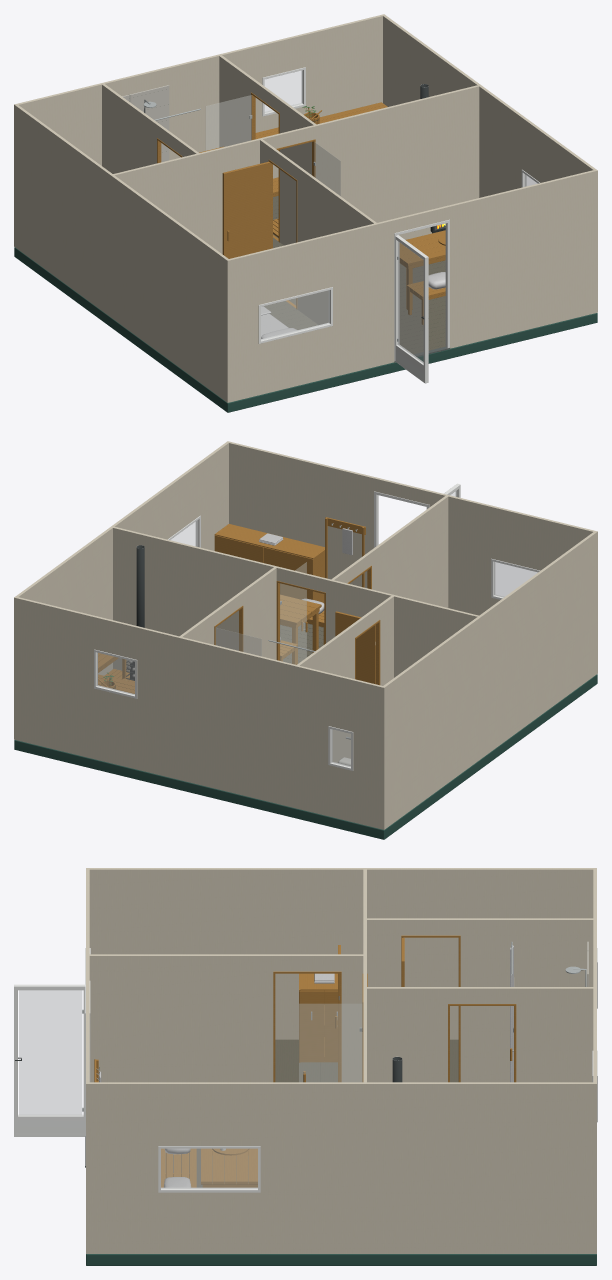
3 views of the same model, one above another, from view 1: azimuth 30°, elevation 25°; view 2: azimuth 150°, elevation 25°; view 3: azimuth 270°, elevation 25° (orthographic). The views are drawn at different scales.
Parts seen in each view (by area): view 1: Wall front band 2, Wall front band 7, Wall front band 6, Wall front band 1, Foundation, Wall front band 8, Wall top_11_0005 band 7, Wall top_11_0005 band 8, Wall rear band 7, Wall rear band 8, Wall front band 5, Wall front band 4 (+46 smaller); view 2: Wall rear band 2, Wall rear band 7, Wall rear band 1, Wall rear band 4, Wall rear band 6, Foundation, Wall rear band 5, Wall rear band 8, Wall front band 7, Wall front band 8, Wall top_11_0005 band 8, Wall front band 6 (+45 smaller); view 3: Wall right band 2, Wall right band 6, Wall right band 7, Wall left band 7, Wall right band 1, Wall right band 4, Wall right band 5, Wall left band 6, Wall right band 8, Wall left band 8, Single PVC glass panel, Wall left band 5 (+35 smaller).
Boxes of the visible parts, left/top/right/bottom form: Wall front band 2: left=226, top=264, right=597, bottom=375; Wall front band 7: left=226, top=183, right=597, bottom=292; Wall front band 6: left=226, top=203, right=597, bottom=312; Wall front band 1: left=226, top=285, right=597, bottom=393; Foundation: left=14, top=247, right=597, bottom=412; Wall front band 8: left=226, top=169, right=597, bottom=273; Wall top_11_0005 band 7: left=128, top=99, right=479, bottom=199; Wall top_11_0005 band 8: left=113, top=85, right=479, bottom=184; Wall rear band 7: left=14, top=29, right=382, bottom=137; Wall rear band 8: left=14, top=14, right=385, bottom=118; Wall front band 5: left=226, top=222, right=597, bottom=331; Wall front band 4: left=226, top=241, right=597, bottom=350; Wall rear band 2: left=14, top=691, right=385, bottom=802; Wall rear band 7: left=14, top=610, right=385, bottom=719; Wall rear band 1: left=14, top=712, right=385, bottom=820; Wall rear band 4: left=14, top=668, right=385, bottom=777; Wall rear band 6: left=14, top=630, right=385, bottom=739; Foundation: left=14, top=674, right=597, bottom=839; Wall rear band 5: left=14, top=649, right=385, bottom=758; Wall rear band 8: left=14, top=596, right=385, bottom=700; Wall front band 7: left=229, top=456, right=597, bottom=564; Wall front band 8: left=226, top=441, right=597, bottom=545; Wall top_11_0005 band 8: left=113, top=526, right=478, bottom=626; Wall front band 6: left=229, top=475, right=597, bottom=583; Wall right band 2: left=89, top=1196, right=593, bottom=1221; Wall right band 6: left=89, top=1122, right=593, bottom=1145; Wall right band 7: left=89, top=1099, right=593, bottom=1122; Wall left band 7: left=89, top=885, right=593, bottom=908; Wall right band 1: left=89, top=1221, right=593, bottom=1243; Wall right band 4: left=89, top=1169, right=593, bottom=1192; Wall right band 5: left=89, top=1146, right=593, bottom=1168; Wall left band 6: left=89, top=908, right=593, bottom=931; Wall right band 8: left=89, top=1082, right=593, bottom=1099; Wall left band 8: left=89, top=868, right=593, bottom=884; Single PVC glass panel: left=19, top=990, right=81, bottom=1115; Wall left band 5: left=89, top=931, right=458, bottom=954.
Bounding box in the file's own units: 6.01 × 2.36 × 6.85.
35 materials, 16 textured.
